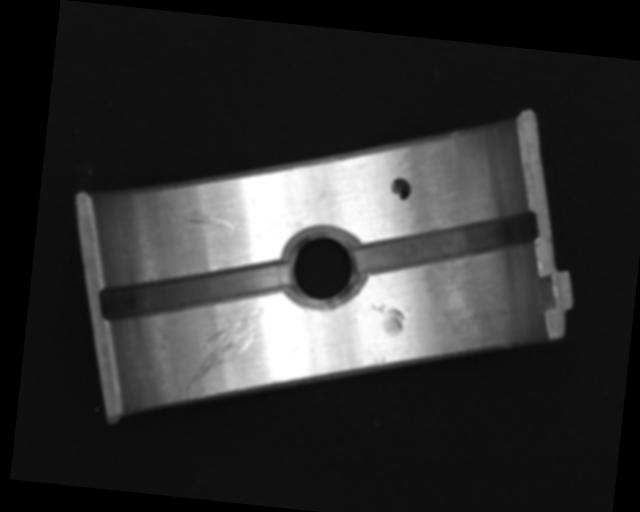blot: (388, 176, 413, 202)
bruise: (368, 304, 405, 337), (367, 353, 387, 368)
gap: (97, 244, 292, 339), (355, 192, 538, 290)
hole: (280, 221, 363, 311)
nick: (187, 297, 267, 401), (182, 210, 247, 234)
